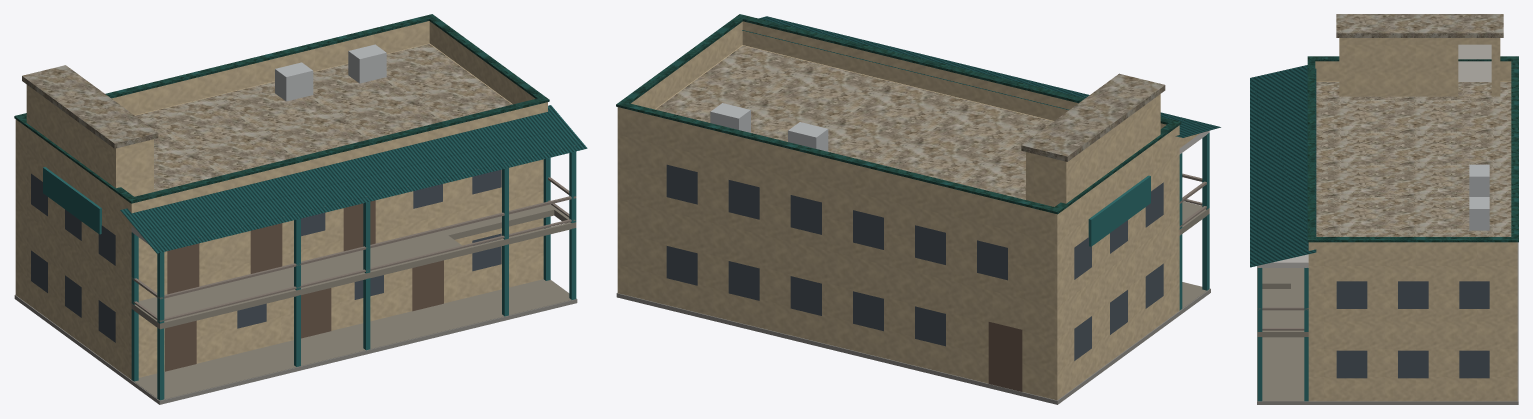
File: cr-motor-court.towns-v1.lod1.glb
3 views of the same model, side by side, from view 1: azimuth 30°, elevation 25°; view 2: azimuth 150°, elevation 25°; view 3: azimuth 270°, elevation 25° (orthographic). The views are drawn at different scales.
Parts seen in each view (by area): view 1: cr-motor-court; view 2: cr-motor-court; view 3: cr-motor-court.
Boxes of the visible parts, box(x1,y1,x2,y2) form: cr-motor-court: box(14, 14, 587, 404); cr-motor-court: box(616, 14, 1220, 404); cr-motor-court: box(1250, 14, 1518, 404).
Size of the model in its own units: 17.6 by 8.95 by 10.54.
Materials: 4 (3 with a texture image).
